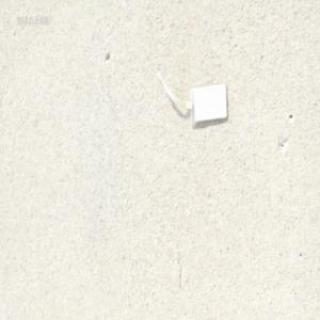LuggageTagtrack_idkeyframe: (154, 65, 230, 127)
